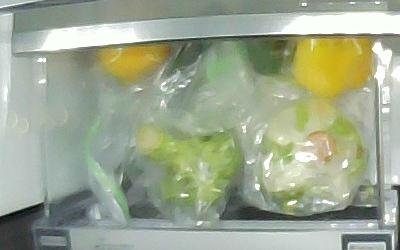broccoli_vinyl: (138, 124, 241, 208)
cucumber_vinyl: (114, 41, 213, 194)
grapefruit_vinyl: (97, 44, 172, 83)
lettuce_vinyl: (259, 101, 363, 215)
paprika_vinyl: (291, 37, 374, 98), (242, 38, 296, 77)
